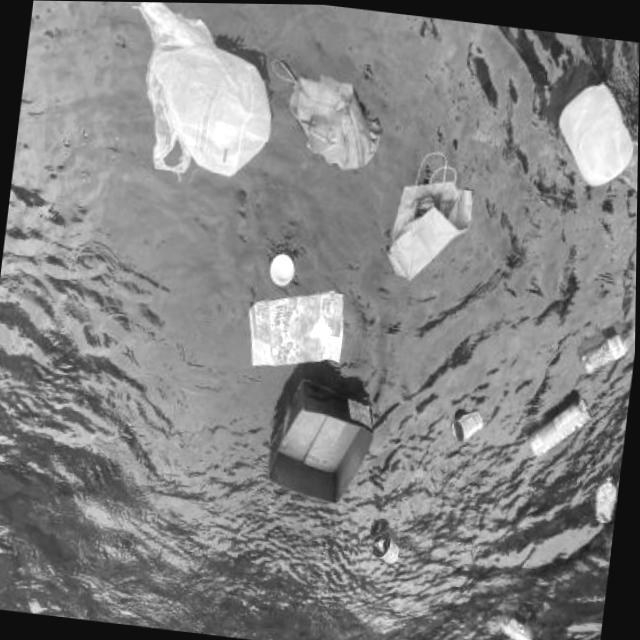Can-Metal: (521, 384, 593, 463), (448, 401, 488, 447), (361, 529, 404, 567)
Cardboard: (252, 363, 387, 513), (239, 275, 351, 377)
Paper: (256, 46, 391, 176), (381, 137, 481, 297), (263, 248, 299, 288)
Plastic: (112, 1, 286, 193), (547, 69, 639, 198), (573, 313, 636, 381), (477, 603, 558, 640), (582, 466, 621, 530), (229, 85, 271, 127)
